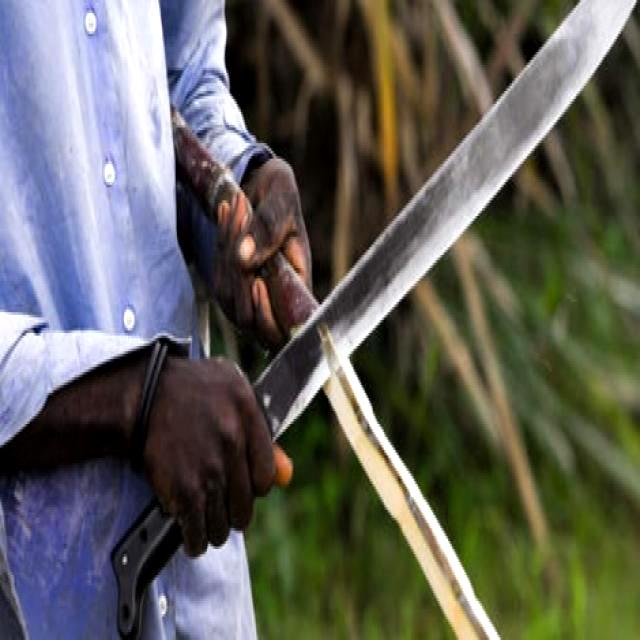long knife: (110, 0, 640, 640), (128, 1, 632, 624)
